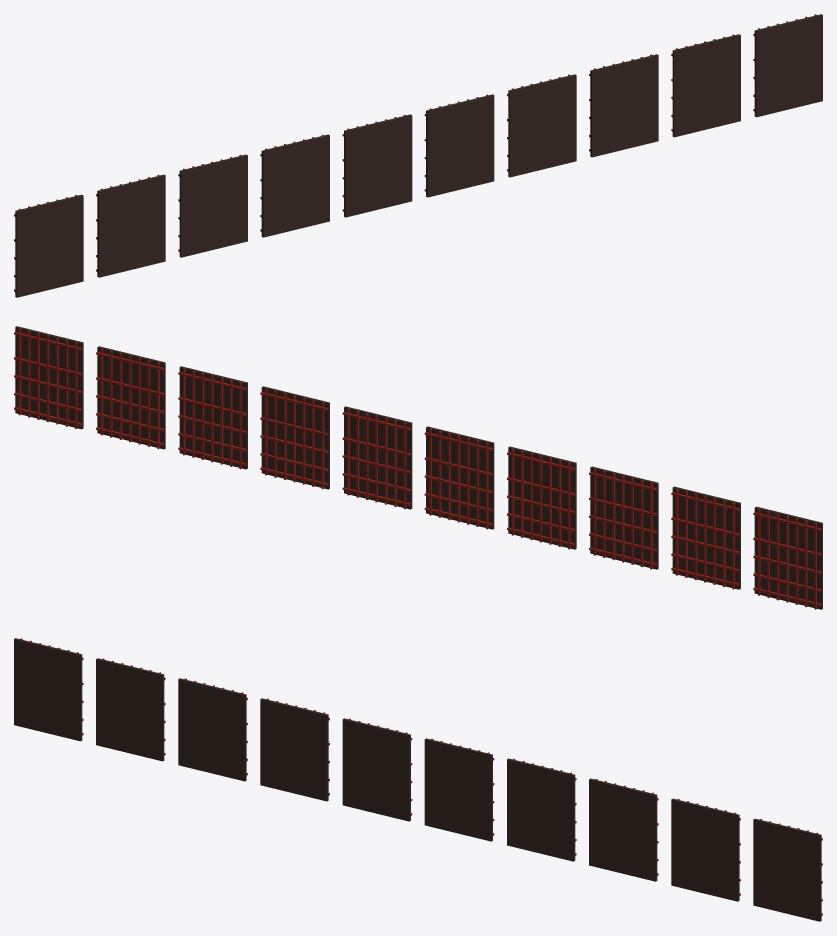
Rendered from SM_12_Doors_Back.fbx.
The picture shows the model from 3 angles, top to bottom: view 1: azimuth 30°, elevation 25°; view 2: azimuth 150°, elevation 25°; view 3: azimuth 330°, elevation 25°; orthographic projection.
Parts seen in each view (by area): view 1: Doors_Back; view 2: Doors_Back; view 3: Doors_Back.
Boxes of the visible parts, box(x1,y1,x2,y2) form: Doors_Back: box(14, 14, 822, 297); Doors_Back: box(14, 326, 822, 609); Doors_Back: box(14, 638, 822, 921).
Bounding box in the file's own units: 4710 × 28.5 × 480.
